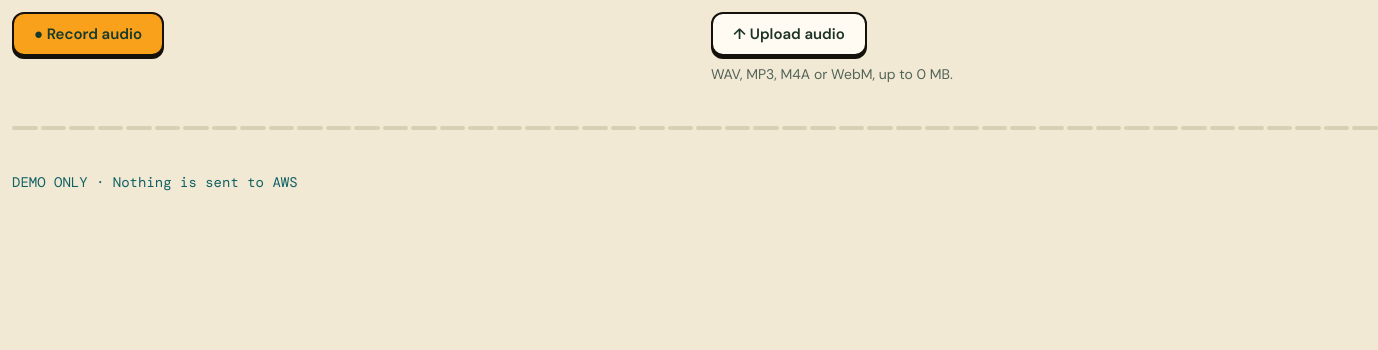
RecorderUploader edge cases › automatically stops at the configured duration
The image size is (1378, 350).
Step 1. Click the button "● Record audio" → (88, 34), box [12,12,164,56]
Wait 4250 ms
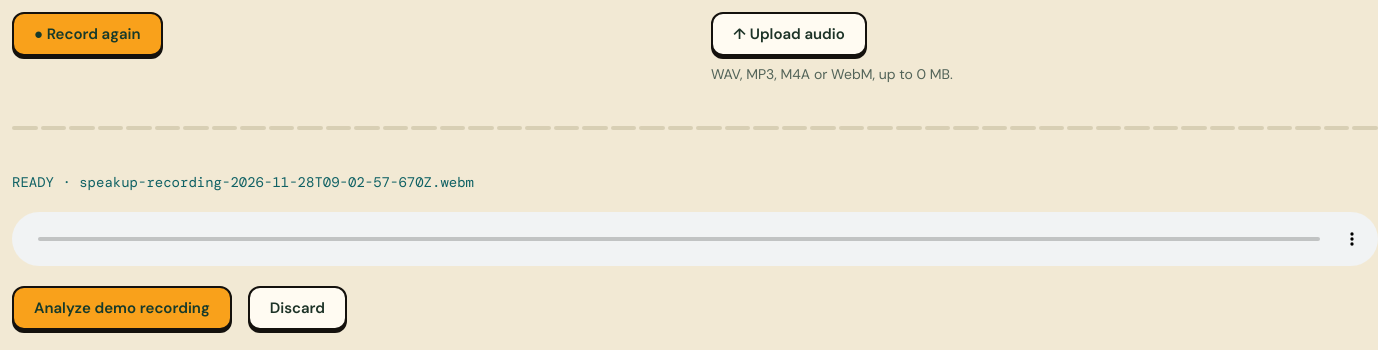
Now the text "READY · speakup-recording-2026-11-28T09-02-57-670Z.webm" is shown, box [12,172,474,192]
